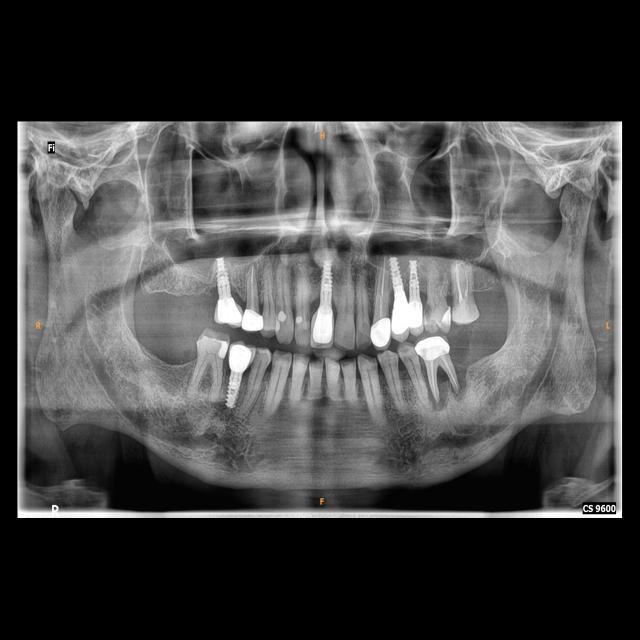dentin-curugu: (424, 302, 435, 324)
dolgu: (274, 306, 289, 332), (216, 336, 228, 360), (439, 307, 452, 328), (293, 311, 307, 325)
implant: (312, 251, 336, 342), (212, 256, 240, 324), (222, 342, 250, 408), (388, 250, 409, 331), (404, 249, 424, 327)
kanal-tedavisi: (422, 362, 462, 401), (376, 250, 389, 317), (242, 264, 261, 308), (453, 260, 471, 305)
kaplama: (414, 334, 452, 363), (238, 308, 264, 331), (371, 320, 391, 346)
